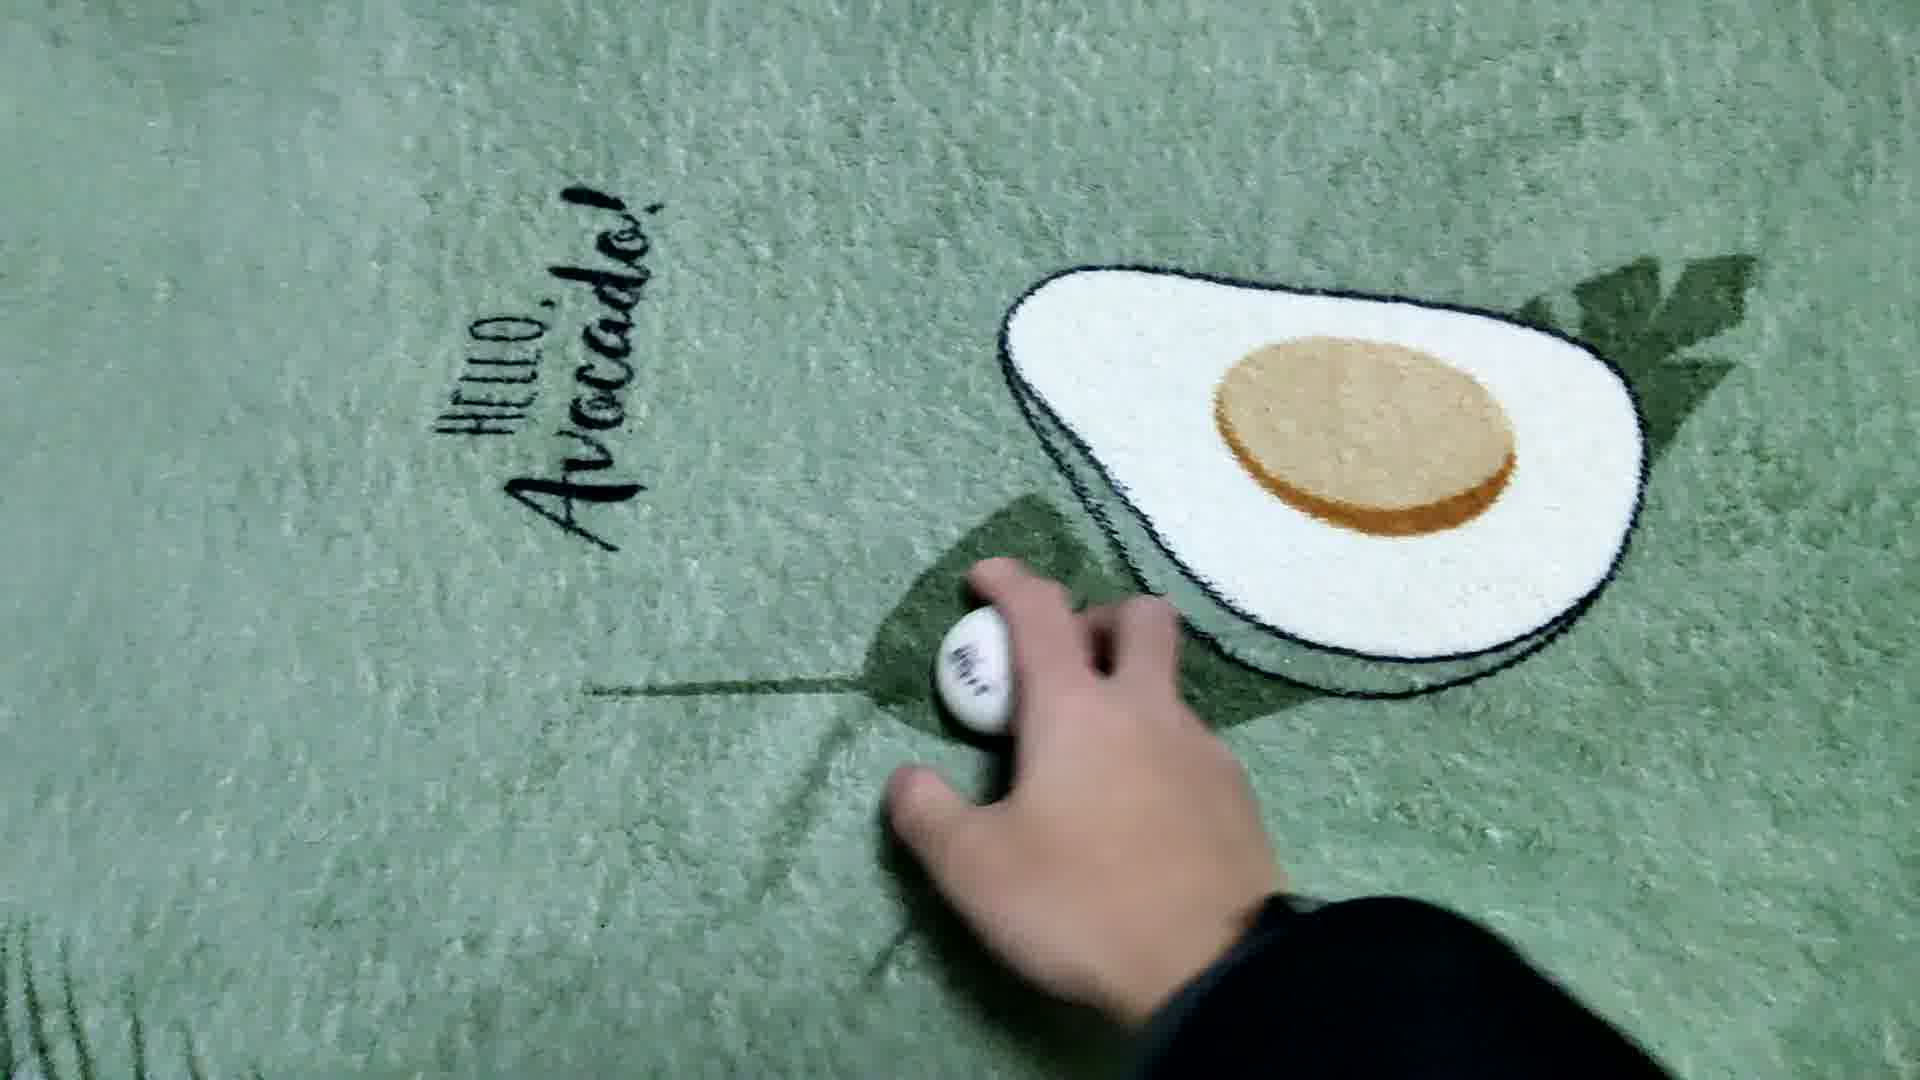Ball: (935, 603, 1062, 735)
